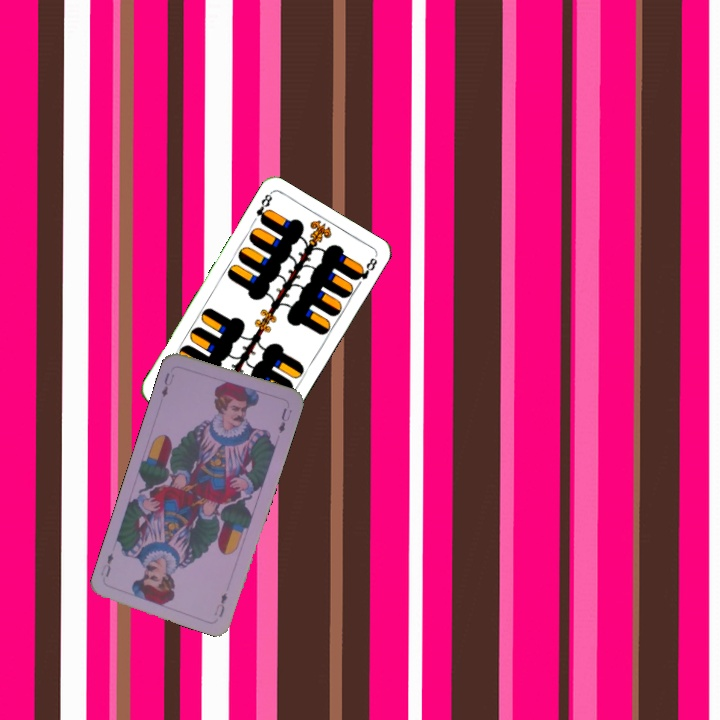E8: (252, 189, 275, 226)
EU: (157, 368, 177, 400), (210, 589, 230, 620)
